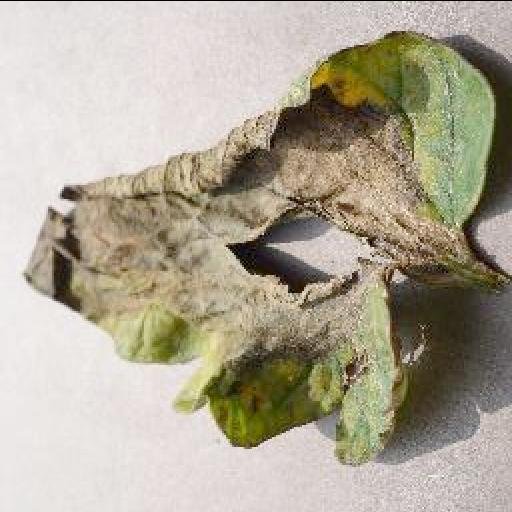disease_tomato: (22, 26, 492, 464)
